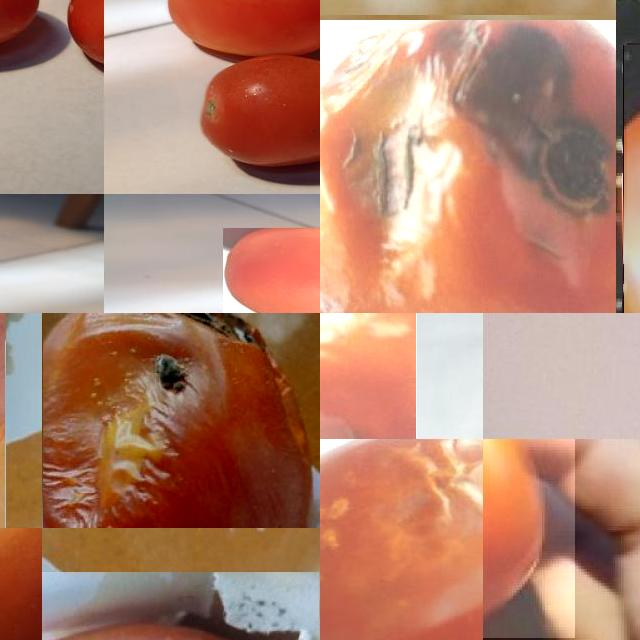Fresh Tomato: (223, 228, 320, 313)
Rotten Tomato: (320, 20, 616, 313), (42, 313, 320, 528), (320, 439, 483, 640), (42, 570, 318, 640)
